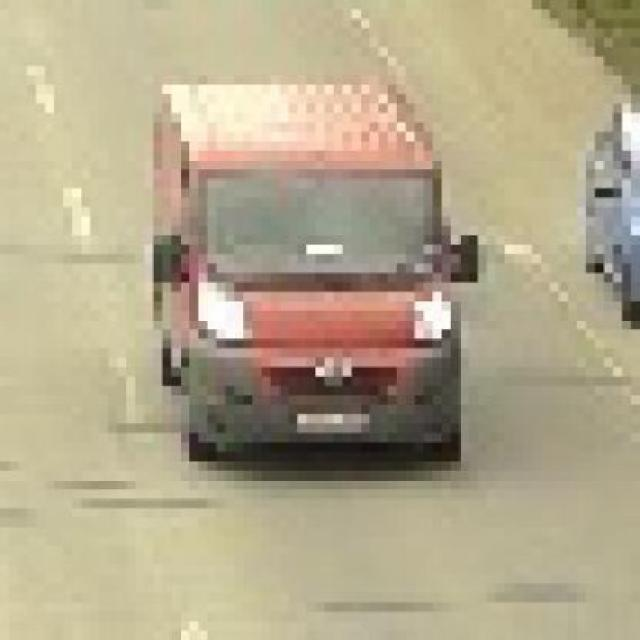vehicle: (121, 68, 492, 486)
